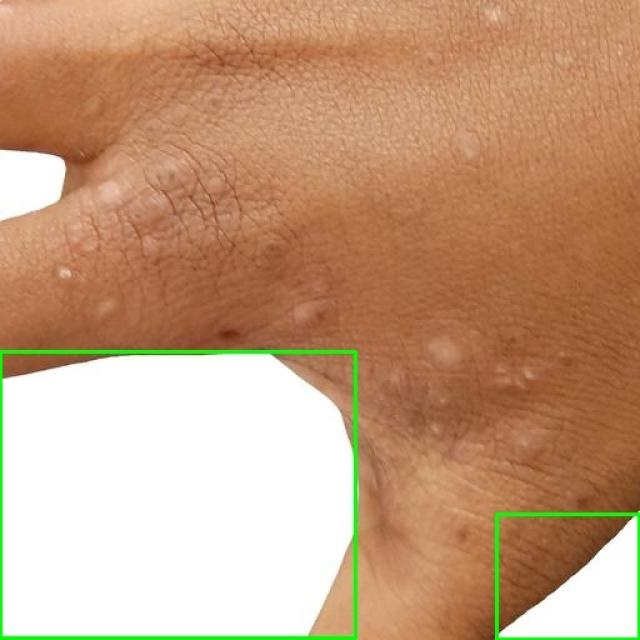Scabies: (0, 352, 356, 639), (496, 514, 639, 639)
